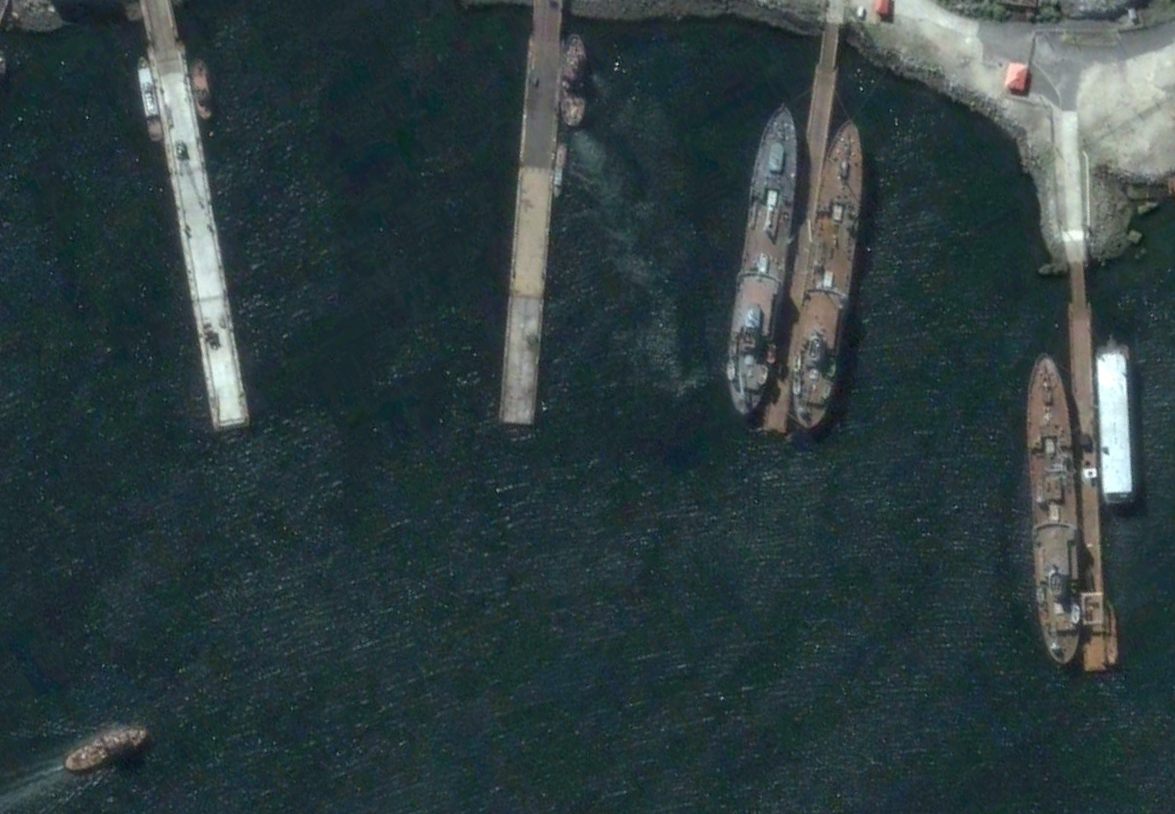merchant ship: (722, 104, 799, 417), (791, 119, 862, 430), (1022, 351, 1084, 664), (61, 720, 144, 774), (559, 30, 587, 127), (135, 56, 165, 143), (188, 53, 213, 120), (552, 142, 569, 198), (1105, 600, 1119, 665)
